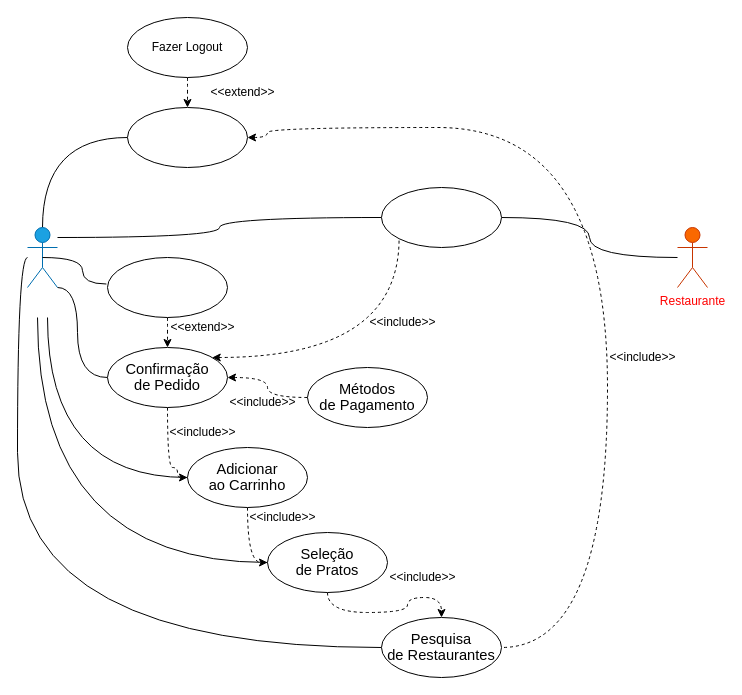
The diagram is 742 pixels wide and 695 high, and some of its shapes have lost their labels. The shapes that lost their labels are listed below. From the top down, each one's centre as x and y in pixels, then its label:
At [187,137]: "Fazer Login".
At [441,217]: "Status do pedido".
At [42,257]: "Cliente".
At [167,287]: "Cancelar pedido".
